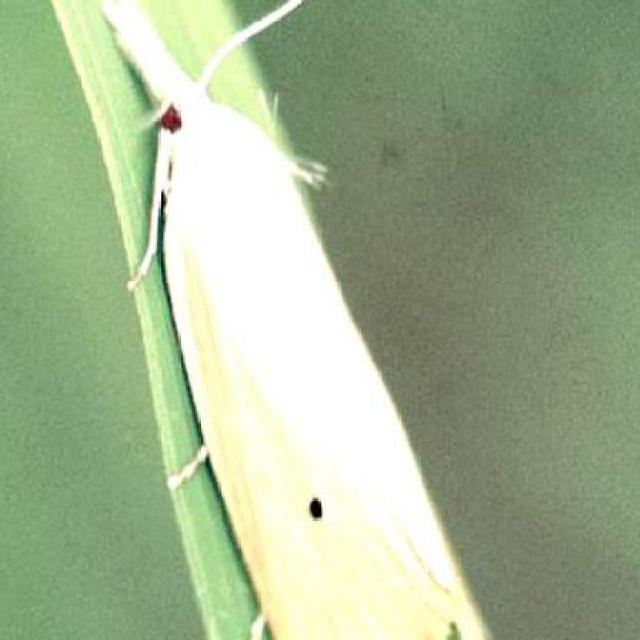stem-borer: (97, 0, 492, 640)
